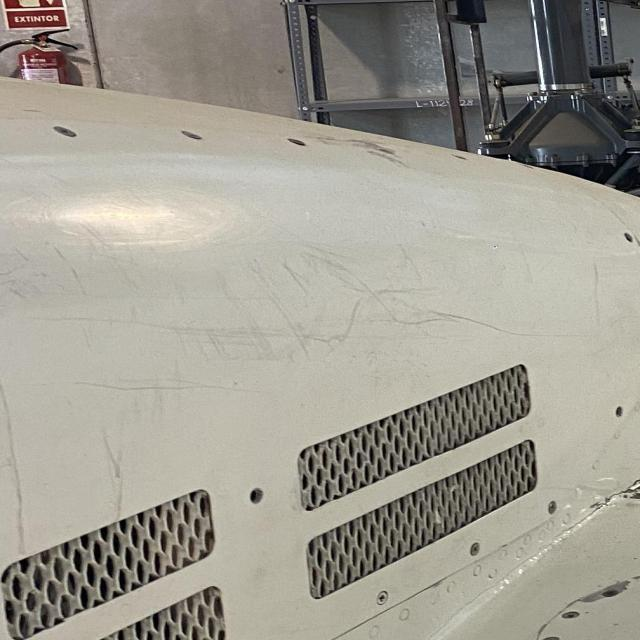Crack: (583, 476, 640, 513)
Missing-head: (248, 488, 264, 505), (624, 232, 635, 242), (614, 407, 624, 417)
Paint-off: (574, 590, 609, 605)
